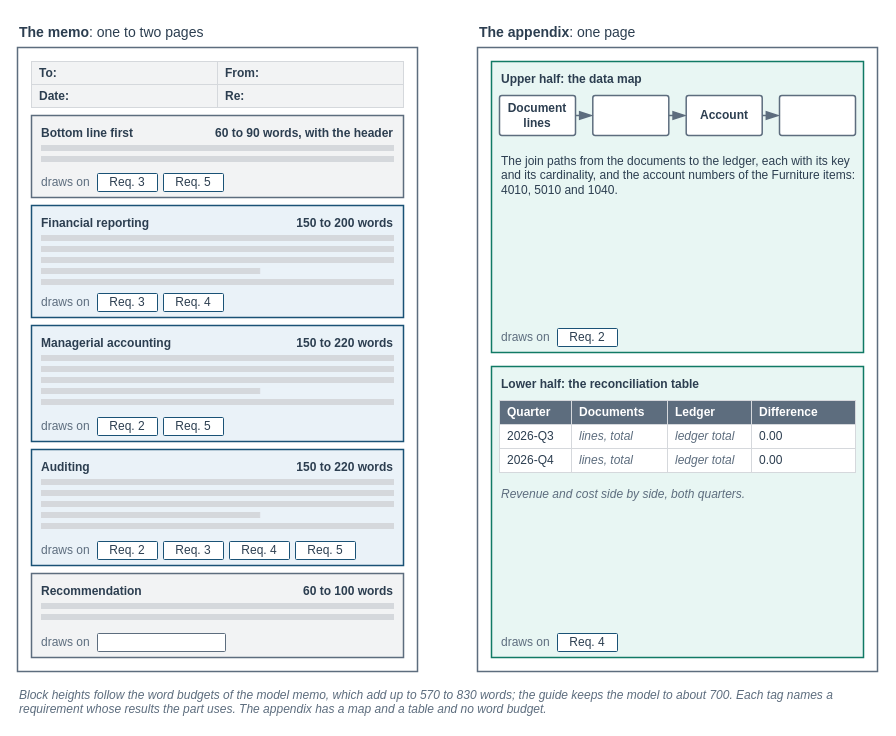
The diagram is 896 pixels wide and 736 high, and some of its shapes have lost their labels. The shapes that lost their labels are listed below. From the top down, each one's box as (x1, y1, x2, y2) in pixels, then its label:
(592, 94, 669, 136): Item
(778, 94, 856, 136): GLEntry
(96, 632, 226, 652): all the requirements
